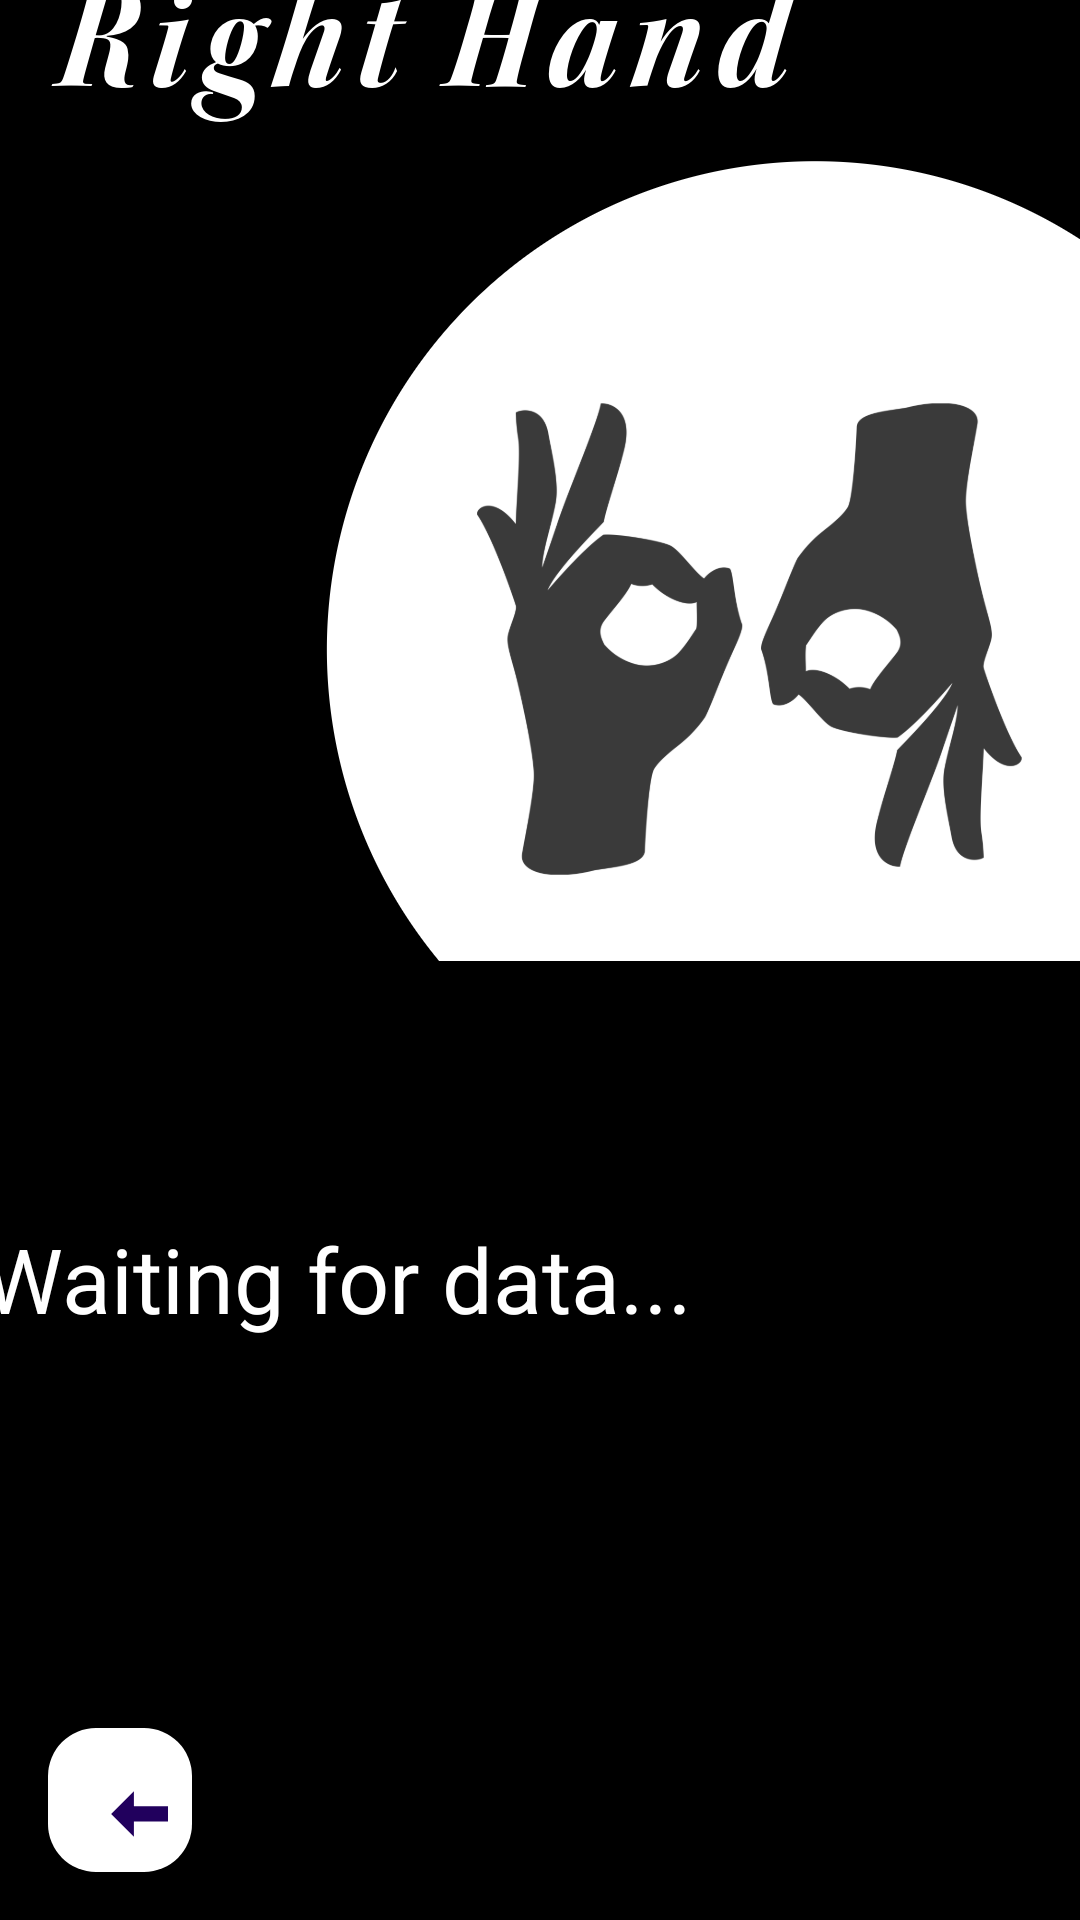

Screen size 1080*1920. Icon name, then its box in pixels as (x1, y1, x2, y2):
arrow back: (48, 1728, 192, 1872)
